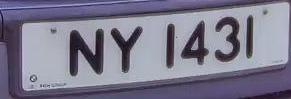1: (155, 16, 182, 76), (238, 9, 263, 65)
3: (211, 11, 243, 68)
4: (177, 14, 212, 74)
N: (62, 22, 114, 83)
Y: (104, 17, 151, 79)
